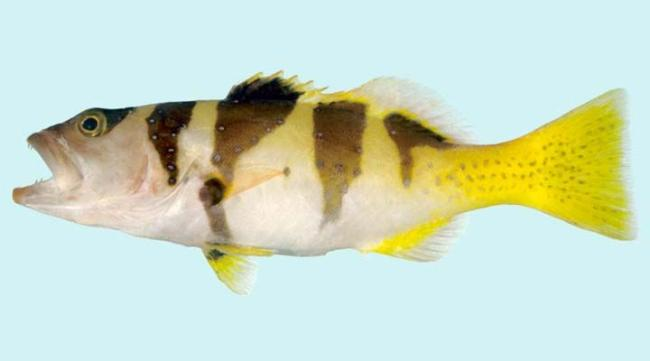fish: (12, 67, 642, 295)
